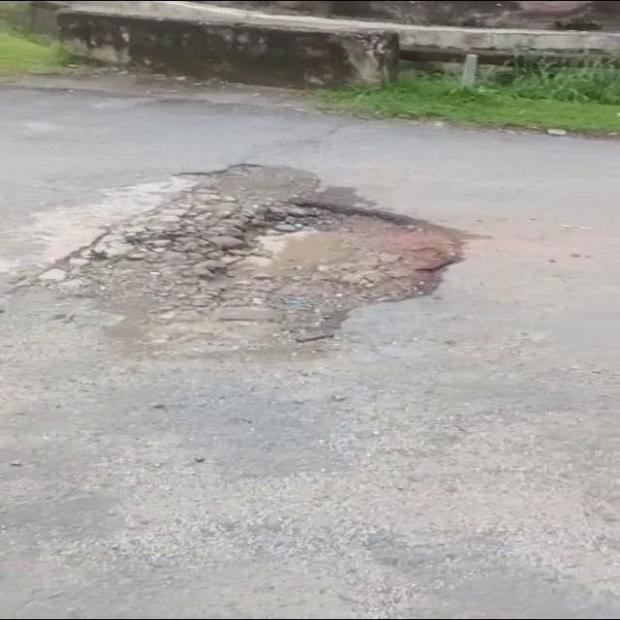lubang: (42, 165, 462, 347)
